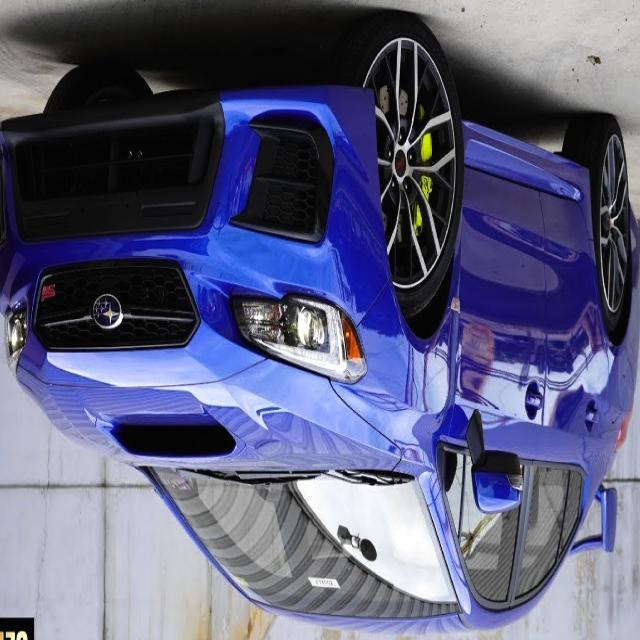blue: (0, 0, 632, 633)
